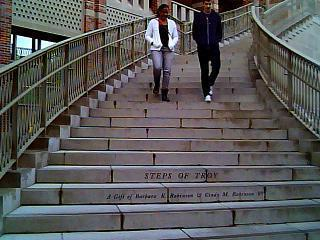Escaleras: (65, 51, 319, 239), (182, 3, 311, 51)
